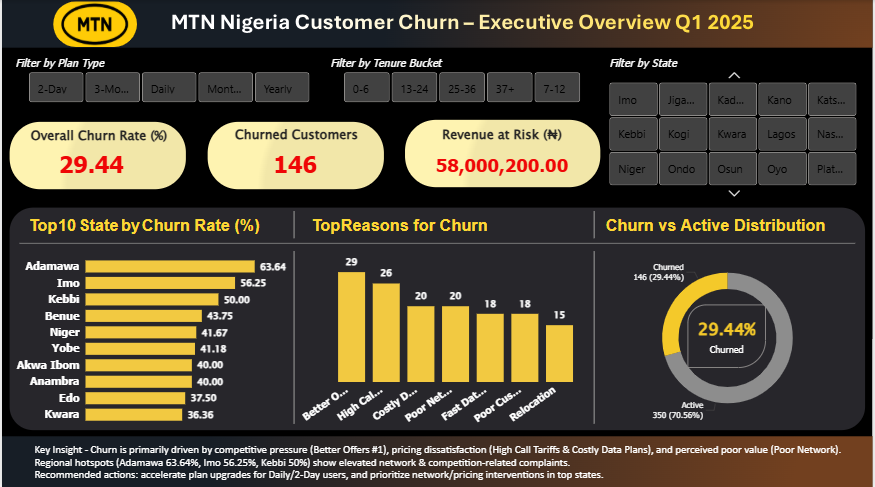

What the dashboard file says about the page in this screenshot:
{"tool":"powerbi","page":{"name":"Page 1","canvas":[1280,720],"ordinal":0},"visuals":[{"type":"cardVisual","fields":{"Data":["mtn_customer_churn_full.Churned"]},"box":[991,431,149,127],"z":0},{"type":"cardVisual","fields":{"Data":["mtn_customer_churn_full.Churn_Rate"]},"box":[42.3,204.3,177.8,72],"z":1000,"group":"g1"},{"type":"cardVisual","fields":{"Data":["mtn_customer_churn_full.Churned_Customers"]},"box":[314.4,204.3,233.6,72],"z":1000,"group":"g2"},{"type":"cardVisual","fields":{"Data":["mtn_customer_churn_full.Revenue_at_Risk"]},"box":[594.7,204.3,279.2,72],"z":1000,"group":"g3"},{"type":"donutChart","title":"Churn Distribution","fields":{"Y":["mtn_customer_churn_full.Total_Customers"],"Category":["mtn_customer_churn_full.Churn_Status"]},"box":[877.2,360,377.6,273.3],"z":1000},{"type":"advancedSlicerVisual","title":"Filter by State","fields":{"Values":["mtn_customer_churn_full.State"]},"box":[887.5,82.3,377.6,217.5],"z":2000},{"type":"textbox","box":[595.1,178.9,279.2,42.6],"z":2000,"group":"g3"},{"type":"textbox","box":[310,179.3,245.4,42.6],"z":2000,"group":"g2"},{"type":"textbox","box":[22,181,241,41.1],"z":2000,"group":"g1"},{"type":"group","id":"g1","title":"Group 2","box":[22,181,241,95.3],"z":3000},{"type":"group","id":"g2","title":"Group 3","box":[310,179.3,245.4,97],"z":4000},{"type":"group","id":"g3","title":"Group 4","box":[594.7,178.9,279.6,97.4],"z":5000},{"type":"clusteredColumnChart","fields":{"Category":["top_reasons_overall.Reasons_for_Churn"],"Y":["mtn_customer_churn_full.Reason_for_Churn_Counts"]},"box":[433.5,360,432,273.3],"z":6000},{"type":"clusteredBarChart","fields":{"Y":["mtn_customer_churn_full.Churn_Rate"],"Category":["state_churn_summary.State"]},"box":[14.7,360,410,273.3],"z":7000},{"type":"advancedSlicerVisual","title":"Filter by Tenure Bucket","fields":{"Values":["mtn_customer_churn_full.Tenure_Bucket"]},"box":[477.6,82.3,399.7,73.5],"z":8000},{"type":"advancedSlicerVisual","title":"Filter by Plan Type","fields":{"Values":["mtn_customer_churn_full.Primary_Plan_Type"]},"box":[14.7,82.3,462.9,73.5],"z":9000},{"type":"textbox","box":[42,645,1224,73],"z":9001}]}

Visuals, with their boxes in screenshot pixels (x1, y1, x2, y2), scaled from the page's 1280x720 canvas onto the 875x487 screenshot:
cardVisual - mtn_customer_churn_full.Churned: left=677, top=292, right=779, bottom=377
cardVisual - mtn_customer_churn_full.Churn_Rate: left=29, top=138, right=150, bottom=187
cardVisual - mtn_customer_churn_full.Churned_Customers: left=215, top=138, right=375, bottom=187
cardVisual - mtn_customer_churn_full.Revenue_at_Risk: left=407, top=138, right=597, bottom=187
"Churn Distribution" donutChart: left=600, top=244, right=858, bottom=428
"Filter by State" advancedSlicerVisual: left=607, top=56, right=865, bottom=203
textbox: left=407, top=121, right=598, bottom=150
textbox: left=212, top=121, right=380, bottom=150
textbox: left=15, top=122, right=180, bottom=150
"Group 2" group: left=15, top=122, right=180, bottom=187
"Group 3" group: left=212, top=121, right=380, bottom=187
"Group 4" group: left=407, top=121, right=598, bottom=187
clusteredColumnChart - top_reasons_overall.Reasons_for_Churn x mtn_customer_churn_full.Reason_for_Churn_Counts: left=296, top=244, right=592, bottom=428
clusteredBarChart - mtn_customer_churn_full.Churn_Rate x state_churn_summary.State: left=10, top=244, right=290, bottom=428
"Filter by Tenure Bucket" advancedSlicerVisual: left=326, top=56, right=600, bottom=105
"Filter by Plan Type" advancedSlicerVisual: left=10, top=56, right=326, bottom=105
textbox: left=29, top=436, right=865, bottom=486
